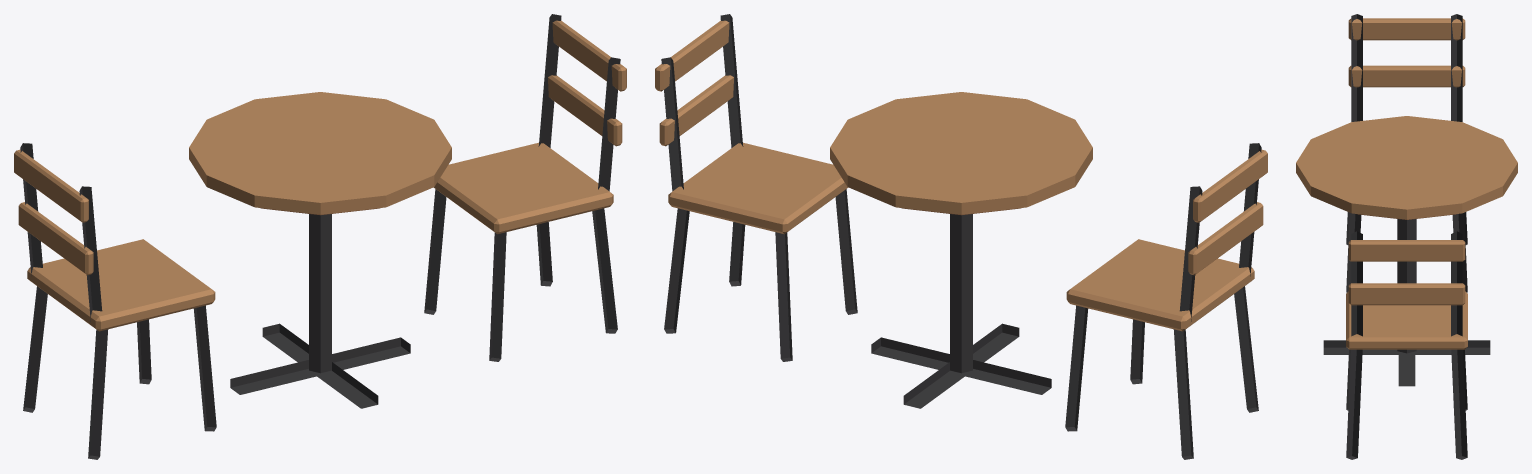
File: cafe_table_set.glb
The picture shows the model from 3 angles, left to right: view 1: azimuth 30°, elevation 25°; view 2: azimuth 150°, elevation 25°; view 3: azimuth 270°, elevation 25°; orthographic projection. The views are drawn at different scales.
Visible parts, largest first — view 1: body; view 2: body; view 3: body.
Boxes of the visible parts, x1,y1,x2,y2 form: body: (14,14,626,459); body: (655,14,1267,459); body: (1296,14,1517,459).
Size of the model in its own units: 1.92 by 0.9038 by 0.8.
